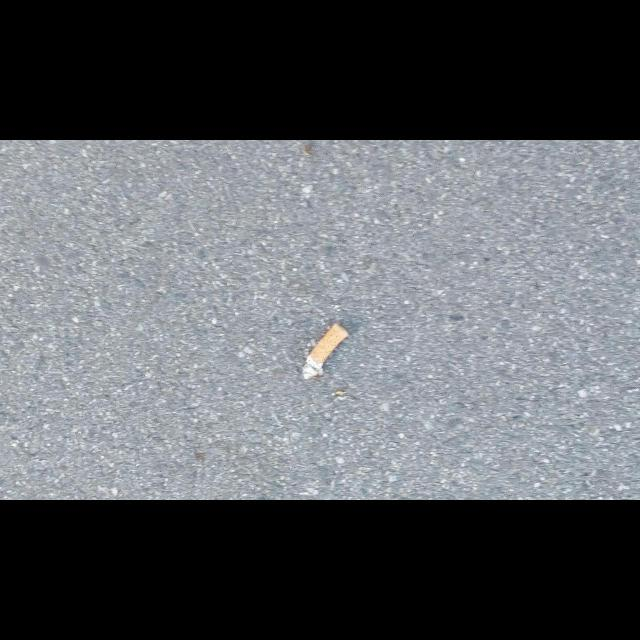cigarette: (302, 322, 349, 380)
